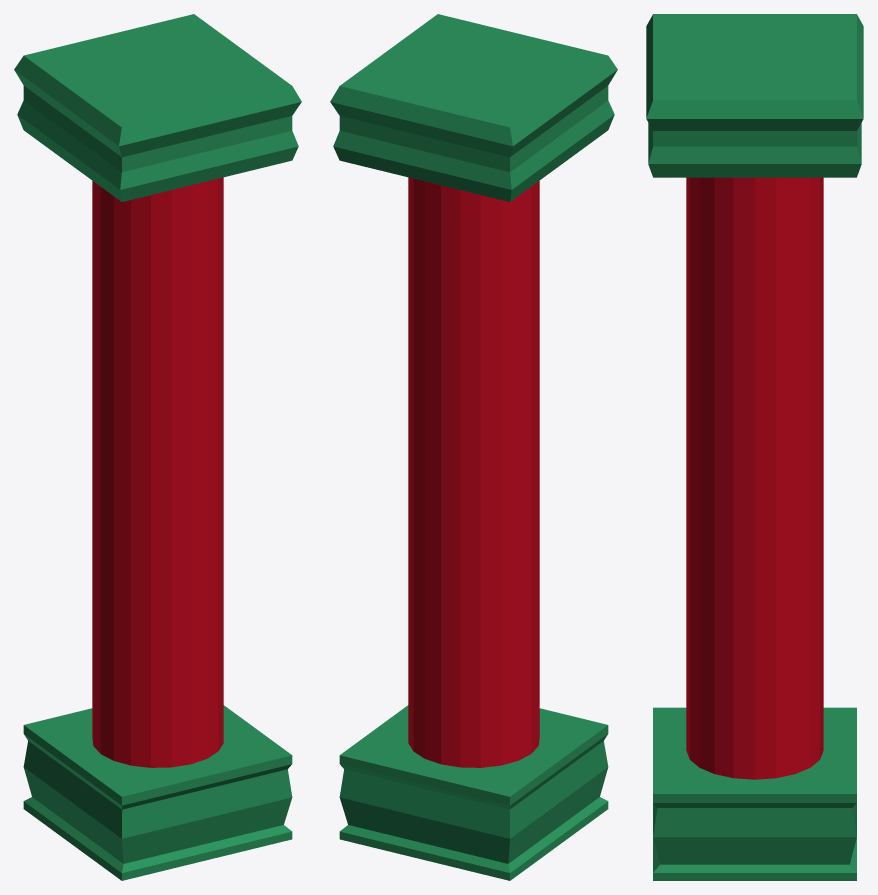
Rendered from pillar_jade.fbx.
3 renders of one model, left to right at view 1: azimuth 30°, elevation 25°; view 2: azimuth 150°, elevation 25°; view 3: azimuth 270°, elevation 25°, orthographic. The views are drawn at different scales.
Parts seen in each view (by area): view 1: Cylinder.003, Cube.003, Cube.004; view 2: Cylinder.003, Cube.003, Cube.004; view 3: Cylinder.003, Cube.003, Cube.004.
Boxes of the visible parts, x1,y1,x2,y2 form: Cylinder.003: (92,177,223,767); Cube.003: (14,14,301,201); Cube.004: (23,705,292,880); Cylinder.003: (408,177,539,767); Cube.003: (330,14,617,201); Cube.004: (339,705,608,880); Cylinder.003: (686,177,823,779); Cube.003: (646,14,863,177); Cube.004: (653,707,856,880).
Size of the model in its own units: 320 by 1257 by 317.
